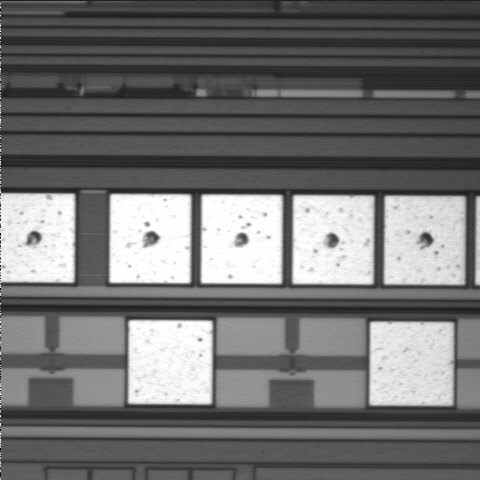pad: (109, 194, 191, 283), (201, 195, 283, 284), (292, 195, 374, 284), (384, 196, 465, 285), (128, 320, 213, 404), (369, 322, 454, 405)
